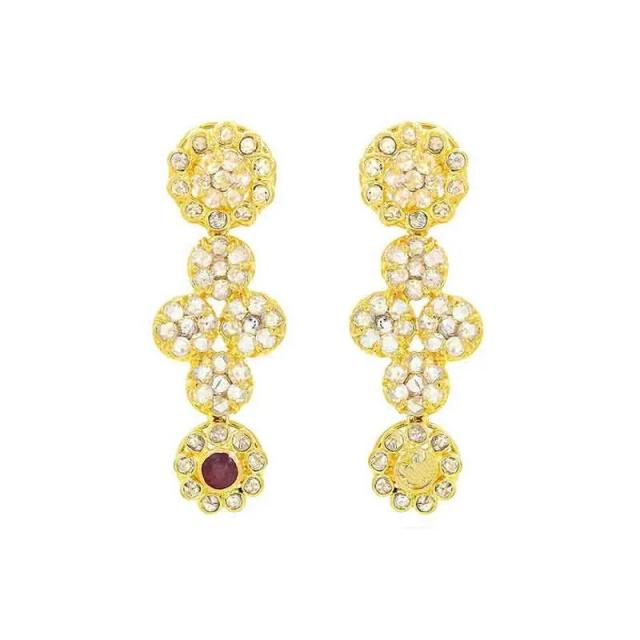missing gem: (398, 448, 435, 489)
